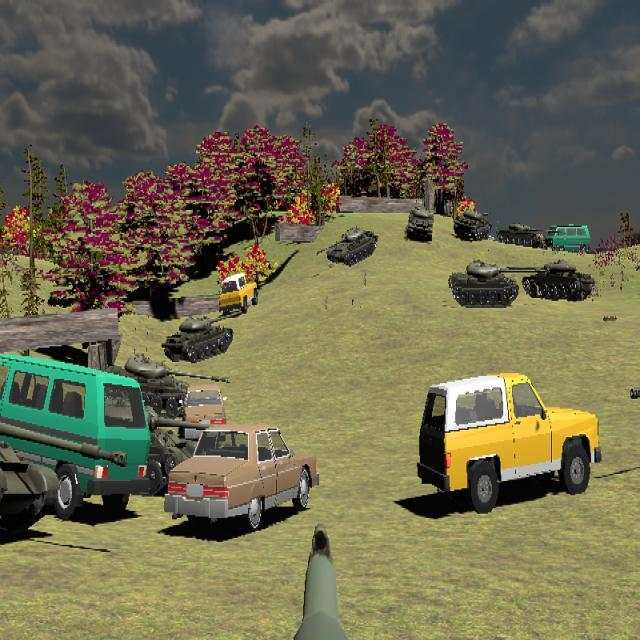Tank: (0, 396, 71, 543), (95, 353, 228, 419), (448, 260, 540, 308), (162, 314, 234, 363), (509, 260, 594, 301), (316, 226, 379, 267), (454, 209, 491, 241), (497, 223, 542, 247), (407, 204, 434, 241)
car: (0, 352, 152, 524), (417, 373, 603, 513), (164, 424, 320, 533), (219, 273, 258, 315), (546, 225, 591, 255)
